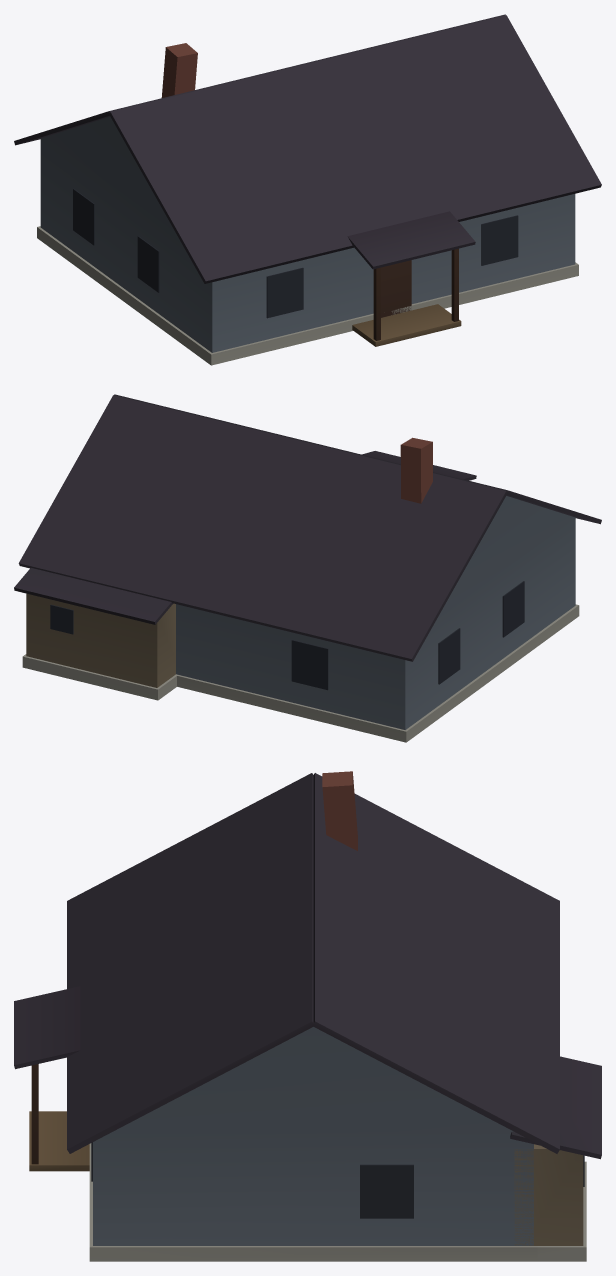
The model's file is shell_starter_lod1.glb.
3 renders of one model, top to bottom at view 1: azimuth 30°, elevation 25°; view 2: azimuth 150°, elevation 25°; view 3: azimuth 270°, elevation 25°, orthographic. The views are drawn at different scales.
Visible parts, largest first — view 1: shell_starter_lod1; view 2: shell_starter_lod1; view 3: shell_starter_lod1.
Boxes of the visible parts, box(x1,y1,x2,y2) form: shell_starter_lod1: box(14, 14, 601, 365); shell_starter_lod1: box(14, 394, 601, 742); shell_starter_lod1: box(14, 771, 601, 1261).
Bounding box in the file's own units: 12 × 6.65 × 11.99.
